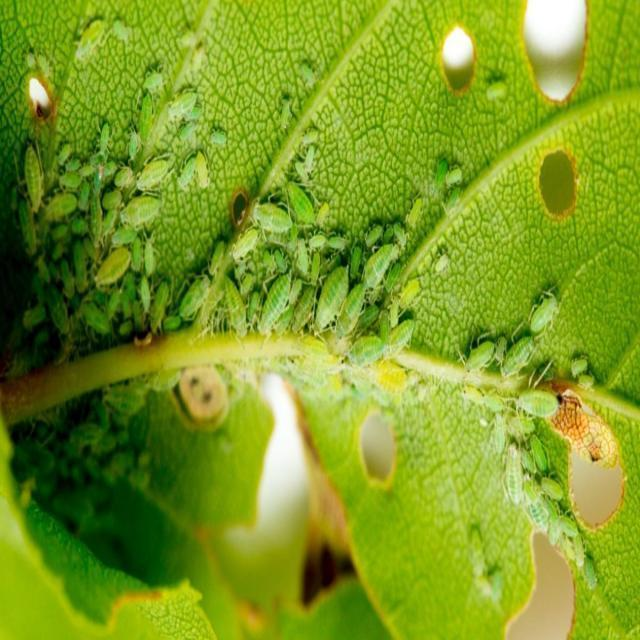aphid: (315, 266, 349, 331), (259, 274, 291, 333), (362, 243, 399, 289), (336, 283, 365, 335), (95, 246, 131, 286), (179, 275, 210, 320), (76, 18, 110, 59), (501, 336, 534, 378), (225, 276, 246, 338), (25, 143, 43, 212), (504, 452, 526, 508), (45, 286, 69, 337), (515, 391, 560, 418), (287, 181, 315, 224), (121, 196, 161, 226), (178, 151, 210, 188), (167, 91, 200, 126), (349, 337, 386, 367), (254, 202, 291, 232), (530, 294, 558, 333), (293, 286, 315, 334), (45, 192, 79, 222), (89, 183, 105, 246), (387, 320, 417, 352), (19, 199, 36, 255), (151, 281, 169, 333), (138, 159, 168, 190), (466, 340, 495, 371), (81, 302, 110, 333), (186, 43, 207, 83), (528, 432, 550, 470), (232, 228, 258, 259), (490, 418, 510, 458), (398, 278, 422, 310), (99, 206, 119, 242), (72, 241, 88, 285), (22, 304, 48, 331), (110, 226, 140, 248), (476, 392, 506, 414), (540, 476, 564, 503), (58, 170, 86, 192), (209, 239, 226, 275), (140, 93, 152, 143), (348, 244, 363, 284), (555, 516, 579, 541), (113, 166, 135, 192), (295, 240, 310, 278), (138, 274, 152, 314), (486, 570, 504, 601), (508, 415, 534, 436), (547, 517, 565, 547), (308, 251, 321, 290), (111, 20, 132, 44), (407, 197, 422, 228), (487, 79, 508, 101), (463, 384, 486, 404), (365, 225, 384, 249), (98, 122, 110, 159), (101, 189, 122, 210), (444, 187, 460, 214), (127, 130, 140, 163), (144, 70, 162, 92), (144, 239, 155, 274), (445, 167, 463, 188), (307, 234, 328, 252), (435, 159, 447, 190), (274, 248, 288, 274), (300, 61, 315, 85), (434, 254, 450, 275), (210, 128, 228, 146), (117, 319, 134, 338), (162, 315, 182, 331), (495, 337, 507, 362), (281, 96, 289, 130), (305, 145, 315, 172), (577, 373, 594, 388)
